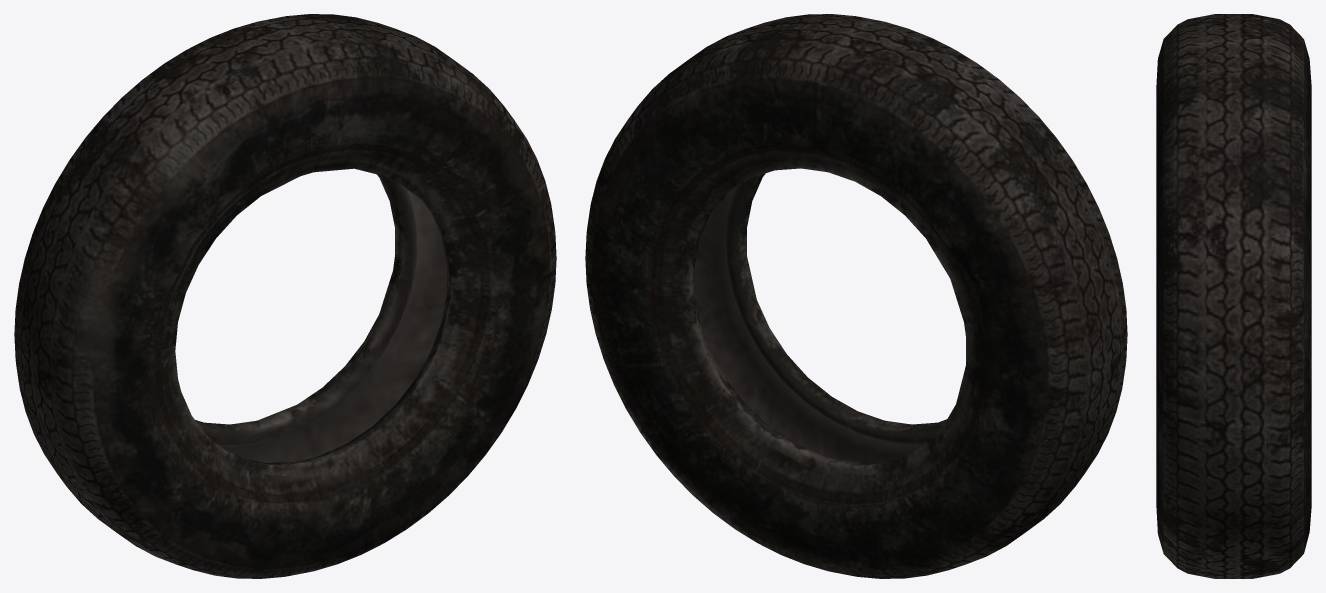
File: old_tyre.glb
3 views of the same model, side by side, from view 1: azimuth 30°, elevation 25°; view 2: azimuth 150°, elevation 25°; view 3: azimuth 270°, elevation 25° (orthographic). The views are drawn at different scales.
Visible parts, largest first — view 1: old_tyre; view 2: old_tyre; view 3: old_tyre.
Part boxes in pixels (<box>): old_tyre: <box>14,14,556,578</box>; old_tyre: <box>585,14,1127,578</box>; old_tyre: <box>1156,14,1311,578</box>.
Bounding box in the file's own units: 0.6 × 0.6 × 0.165.
Materials: 1 (1 with a texture image).
